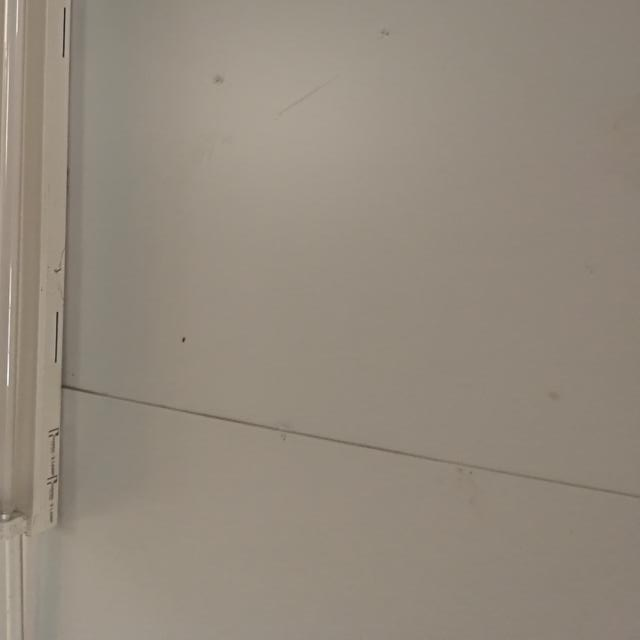fluorescent tube: (1, 0, 120, 571)
